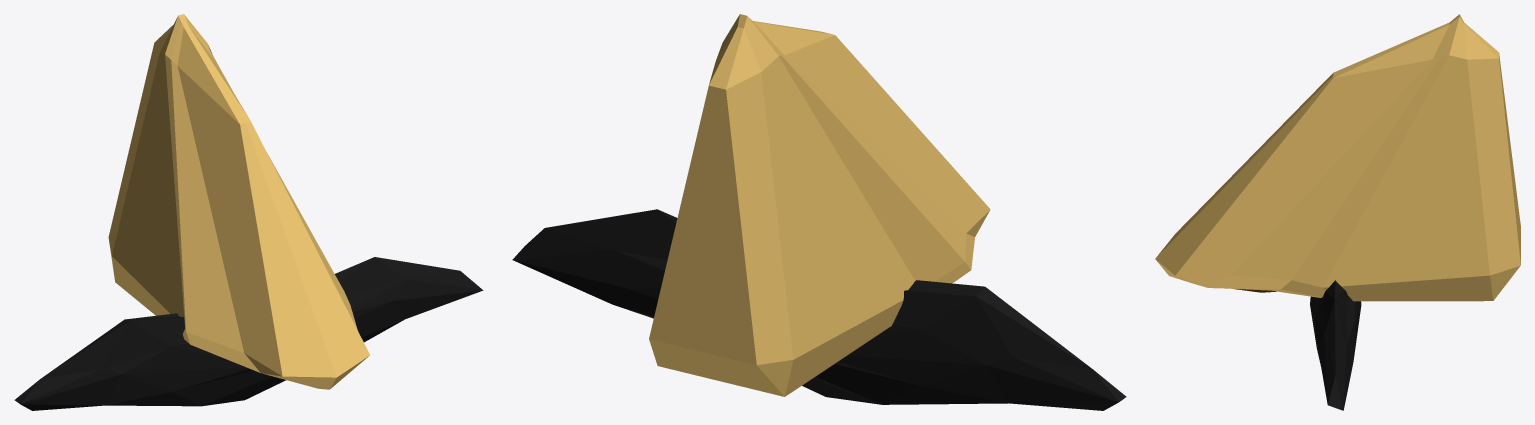
Rendered from TheShnoz.fbx.
3 renders of one model, left to right at view 1: azimuth 30°, elevation 25°; view 2: azimuth 150°, elevation 25°; view 3: azimuth 270°, elevation 25°, orthographic. The views are drawn at different scales.
Visible parts, largest first — view 1: Icosphere; view 2: Icosphere; view 3: Icosphere.
Boxes of the visible parts, box(x1,y1,x2,y2) form: Icosphere: box(14, 14, 483, 410); Icosphere: box(512, 14, 1126, 410); Icosphere: box(1155, 14, 1520, 410).
Bounding box in the file's own units: 188 × 131 × 131.
